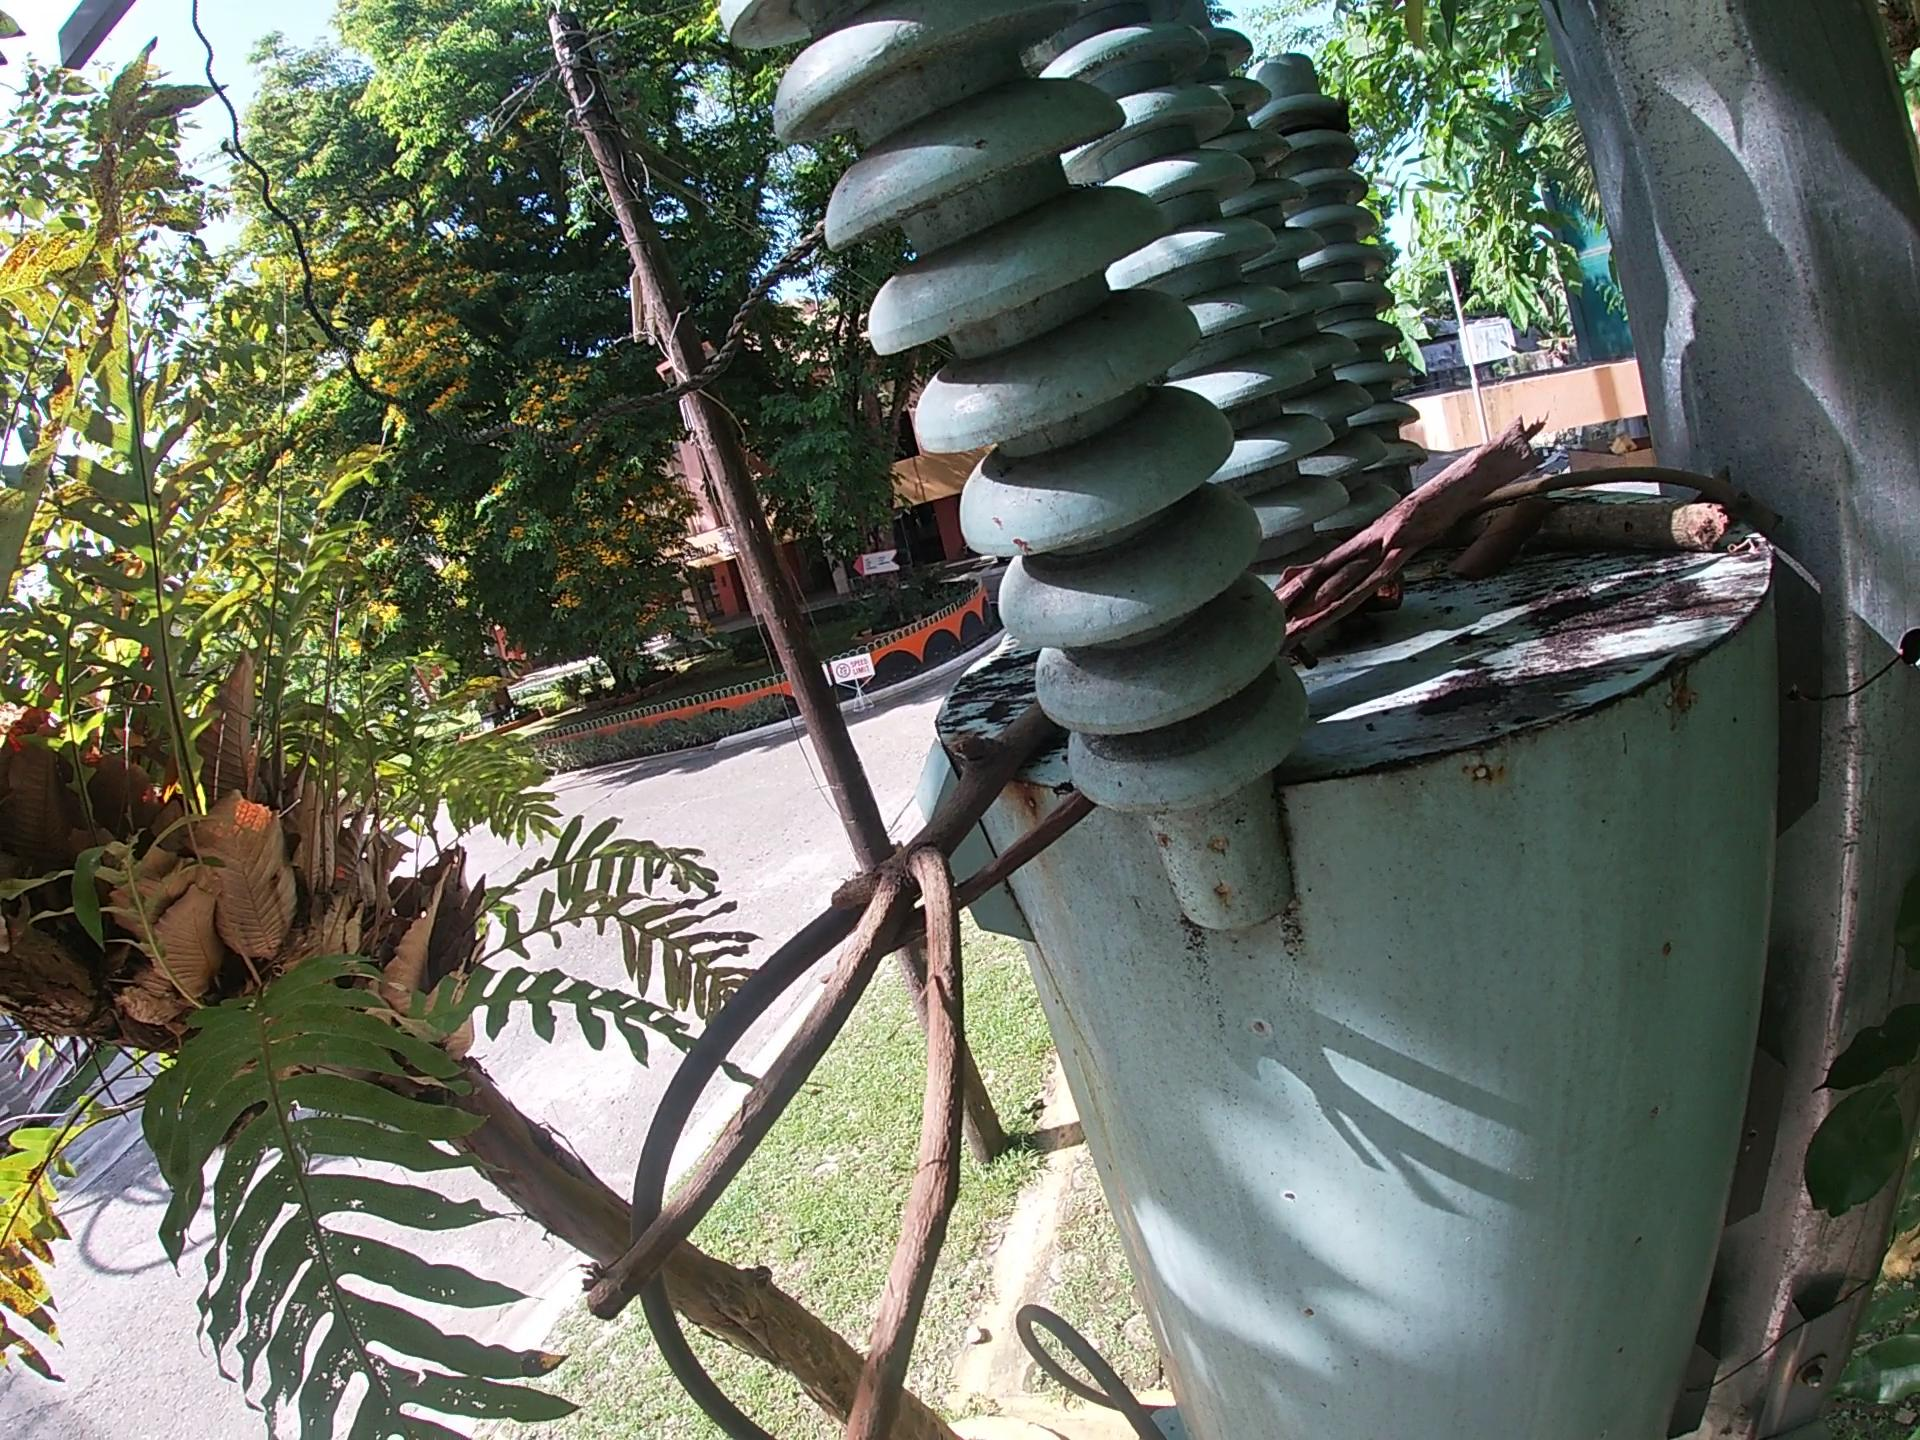leaf: (1456, 489, 1553, 576)
mahogany fruit: (1370, 576, 1412, 632)
tree branch: (576, 700, 1076, 1428), (1281, 417, 1559, 646), (936, 796, 1104, 929), (1534, 490, 1751, 555), (1545, 457, 1807, 489)
